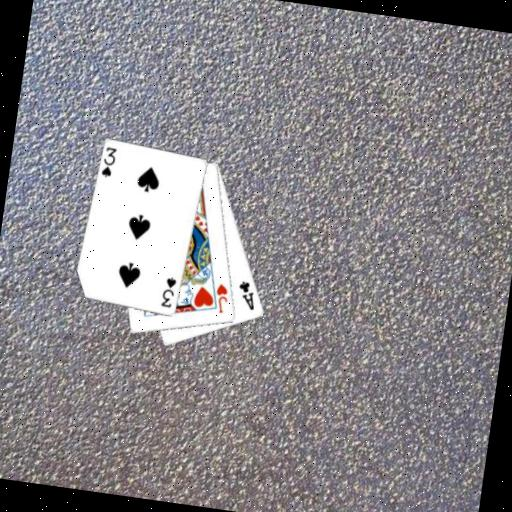3S: (158, 273, 179, 310), (98, 143, 118, 180)
AC: (233, 278, 260, 313)
JH: (211, 280, 232, 316)
